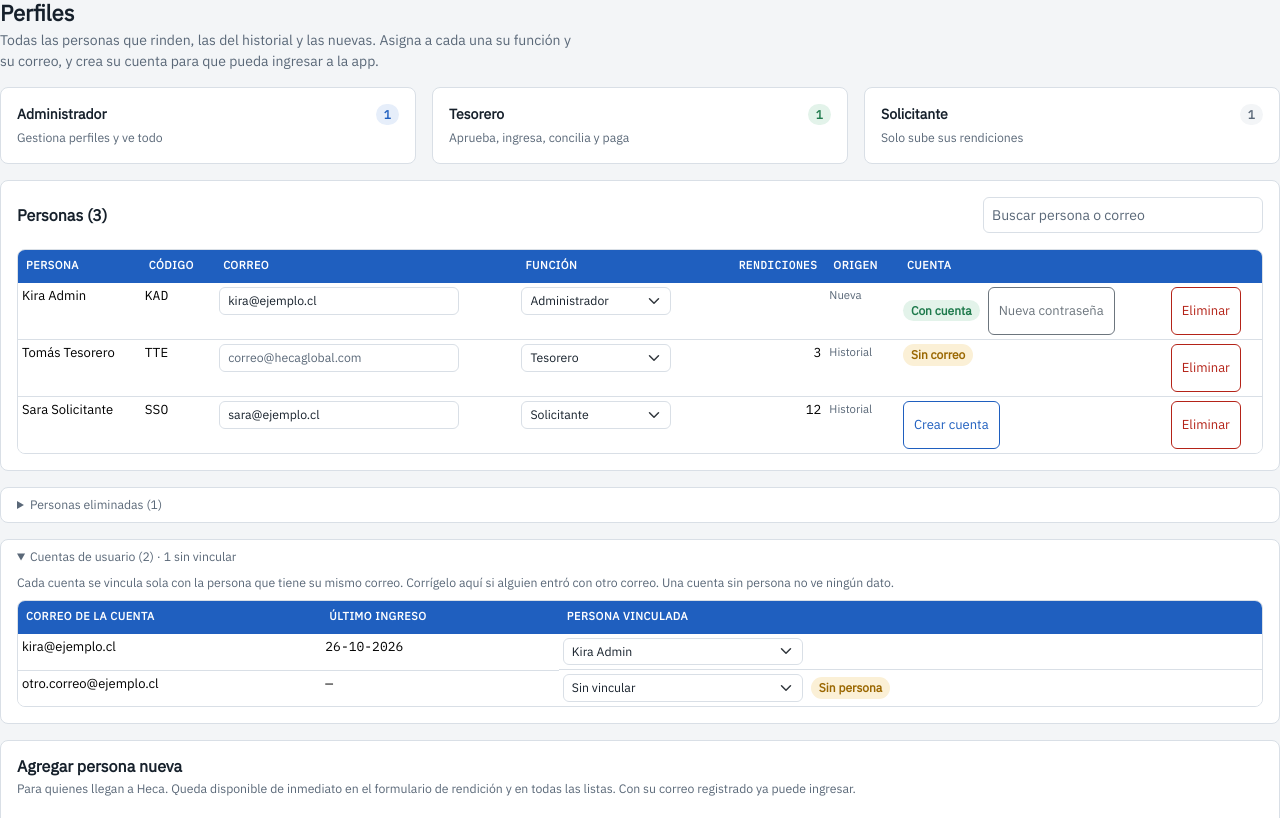
Test: PerfilesView › nueva contraseña pide confirmación en línea; un error de la función se muestra
Click the button with aria-label "Nueva contraseña para Kira Admin".
click(1051, 311)  # box [988,287,1115,335]
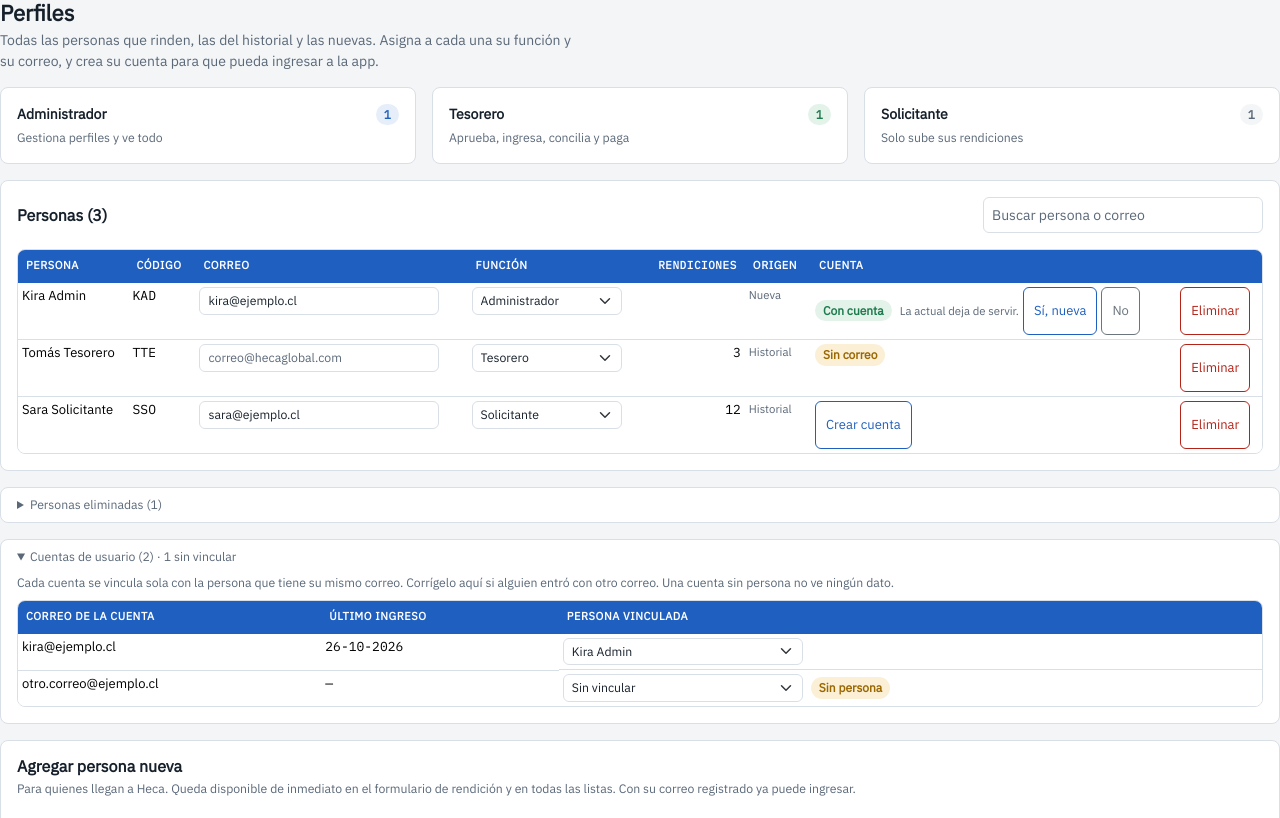
Result: the text "La actual deja de servir." is shown at [900,303,1019,318]
Click the button "Sí, nueva".
click(1060, 311)  # box [1023,287,1097,335]
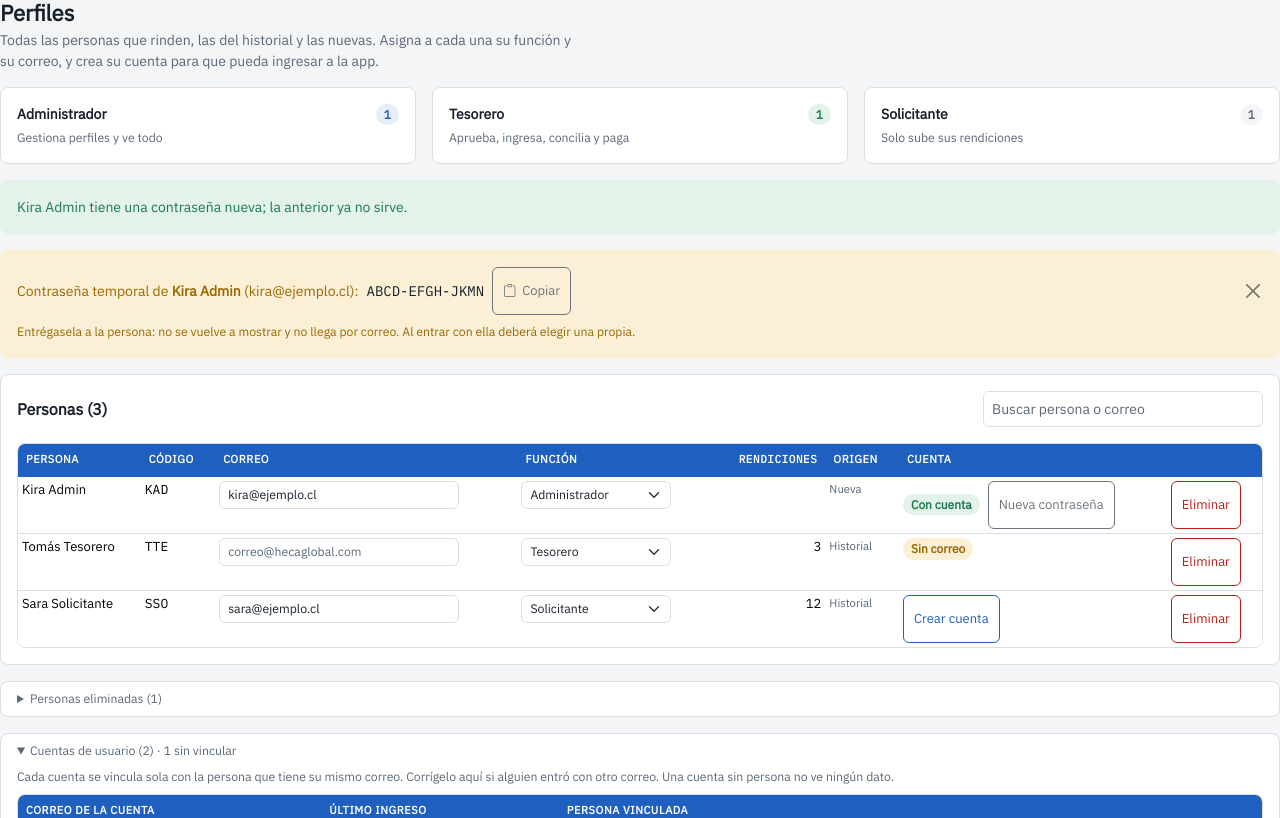
Result: the message "Kira Admin tiene una contraseña nueva; la anterior ya no sirve." is shown at [0,180,1279,234]
Result: the text "ABCD-EFGH-JKMN" is shown at [366,281,484,302]
Click the button with aria-label "Nueva contraseña para Kira Admin".
click(1051, 505)  # box [988,481,1115,529]
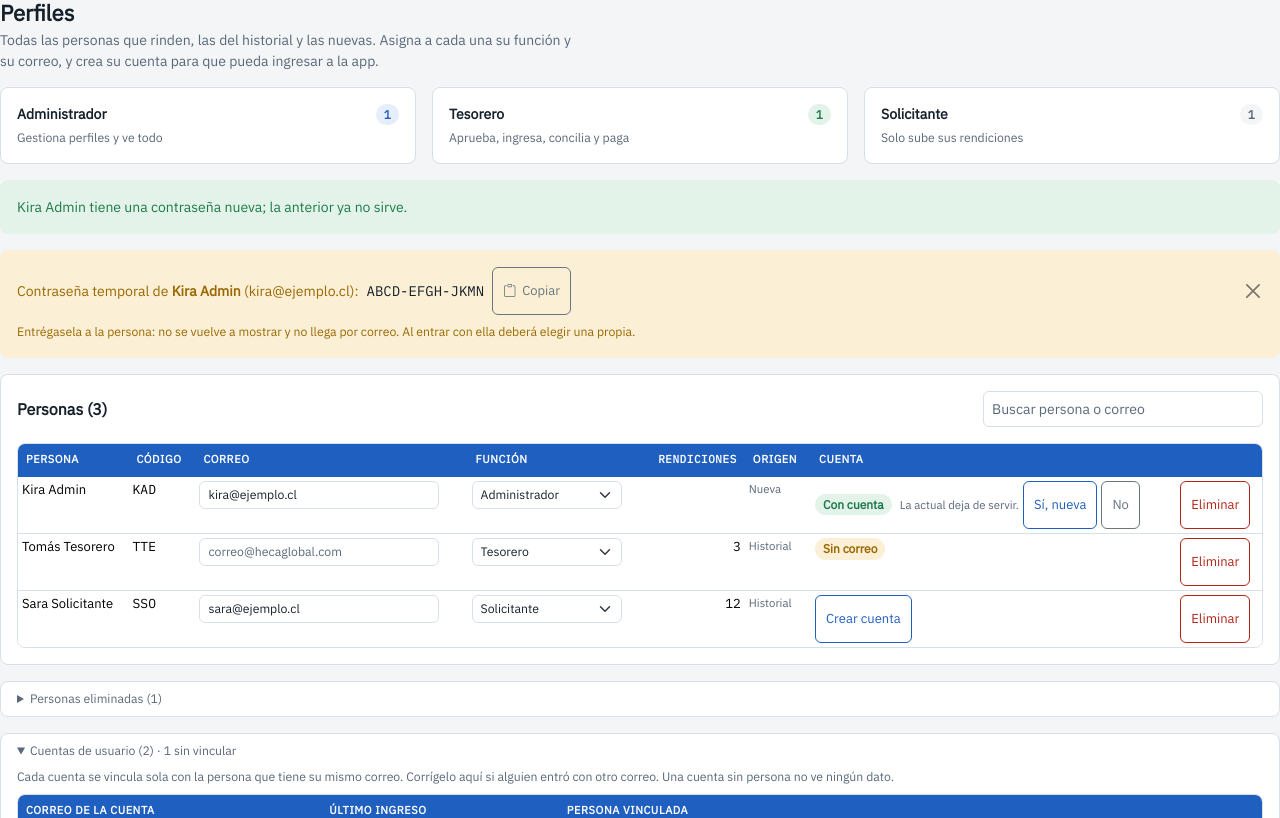
Click the button "Sí, nueva".
click(1060, 505)  # box [1023,481,1097,529]
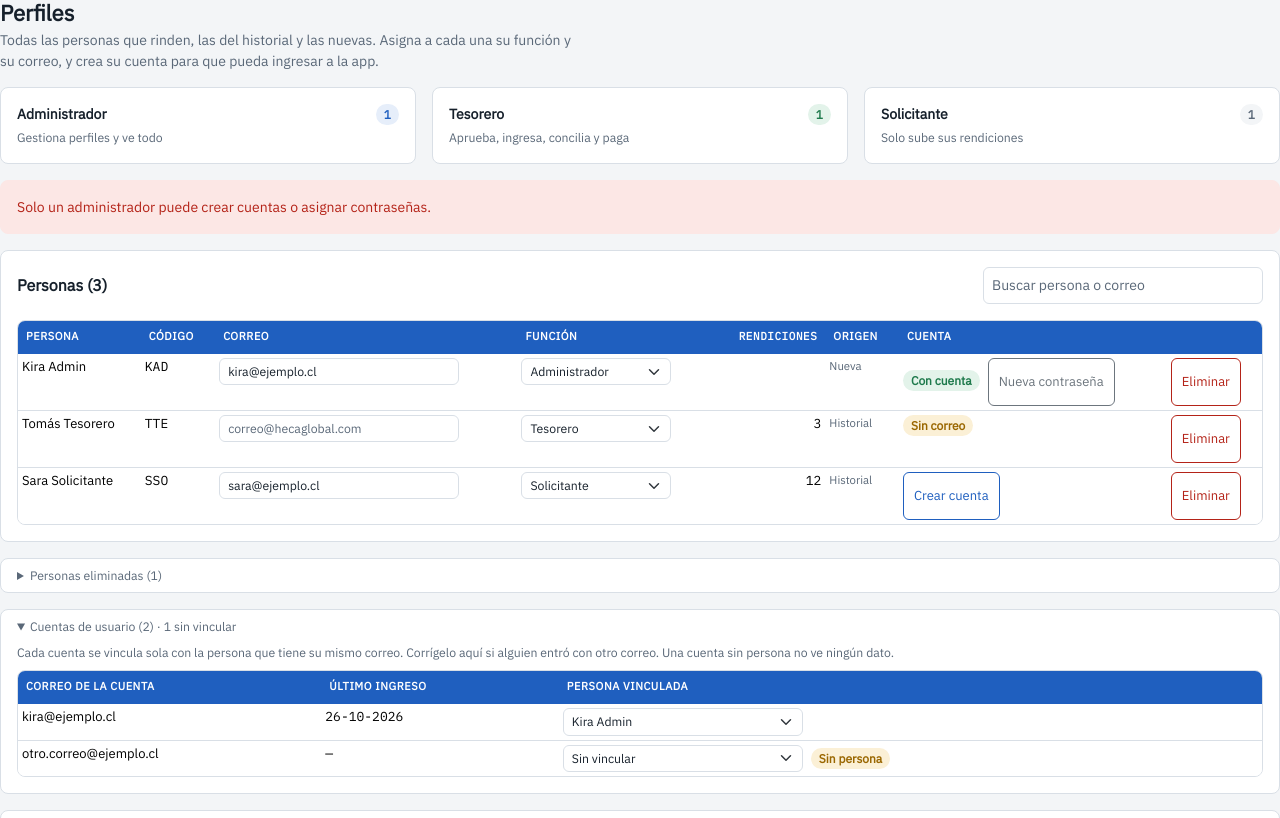
Result: the message "Solo un administrador puede crear cuentas o asignar contraseñas." is shown at [0,180,1279,234]
